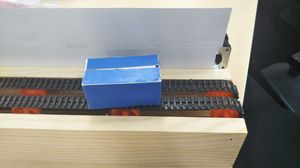box3: (79, 54, 162, 111)
